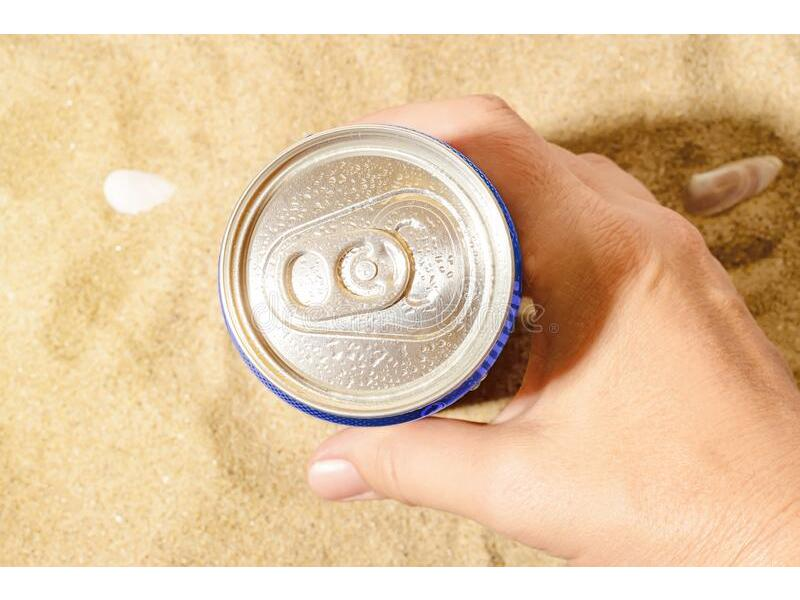can: (211, 118, 534, 442)
